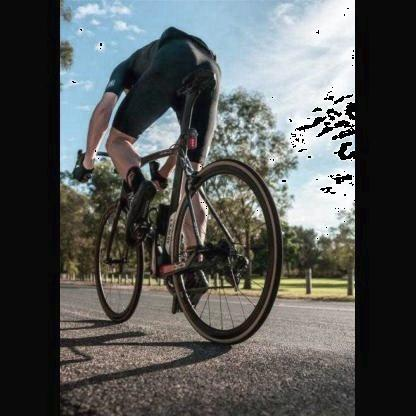Bicycle: (71, 49, 293, 351)
